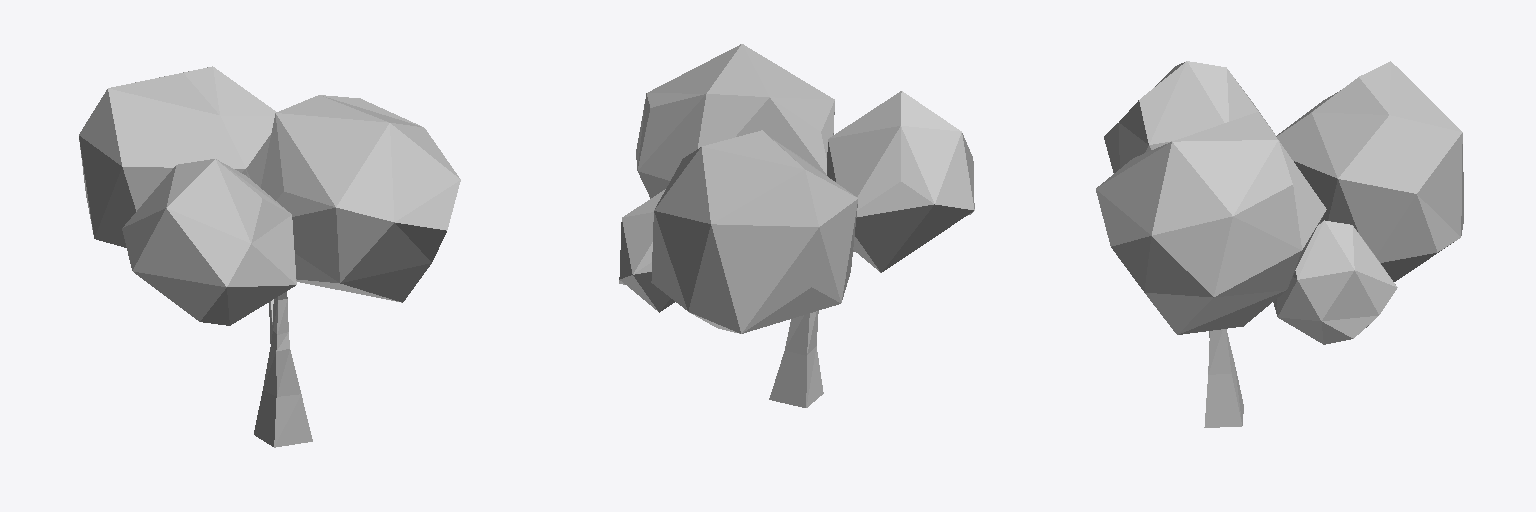
The model's file is tree13.obj.
The picture shows the model from 3 angles: view 1: azimuth 30°, elevation 25°; view 2: azimuth 150°, elevation 25°; view 3: azimuth 270°, elevation 25°; orthographic projection.
Visible parts, largest first — view 1: crown1 tree_13, tree_13 trunk1; view 2: crown1 tree_13, tree_13 trunk1; view 3: crown1 tree_13, tree_13 trunk1.
Part boxes in pixels (left/top/right/bottom): crown1 tree_13: left=79, top=66, right=460, bottom=325; tree_13 trunk1: left=254, top=292, right=312, bottom=447; crown1 tree_13: left=619, top=44, right=974, bottom=333; tree_13 trunk1: left=769, top=250, right=854, bottom=407; crown1 tree_13: left=1096, top=61, right=1463, bottom=344; tree_13 trunk1: left=1204, top=329, right=1243, bottom=427.
Bounding box in the file's own units: 30.11 × 28.34 × 29.12.